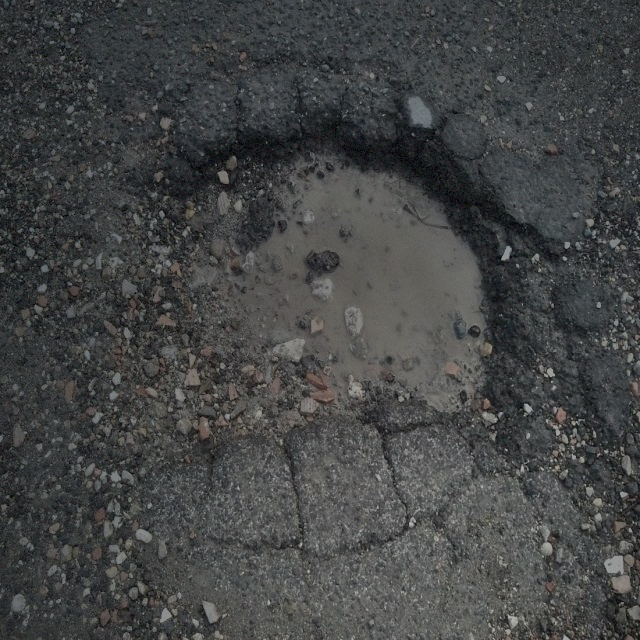pothole: (151, 110, 511, 473)
